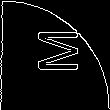M_W: (29, 31, 81, 79)
